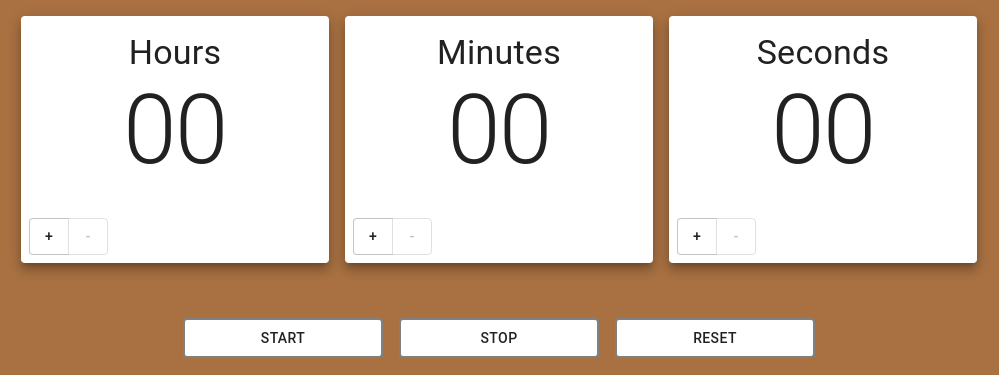
Timer component renders › checking reset button
This screenshot has width=999, height=375.
Click the button "+" below "Minutes" at x=373, y=237, box [353,218,393,255]
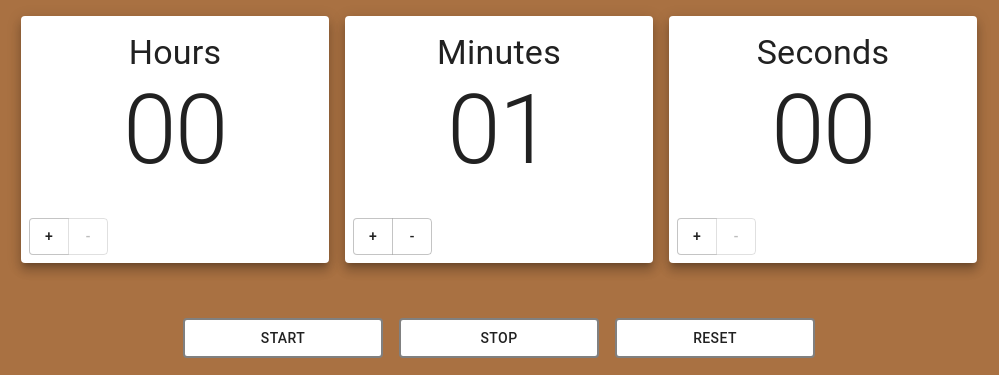
Click the button "+" below "01" at x=373, y=237, box [353,218,393,255]
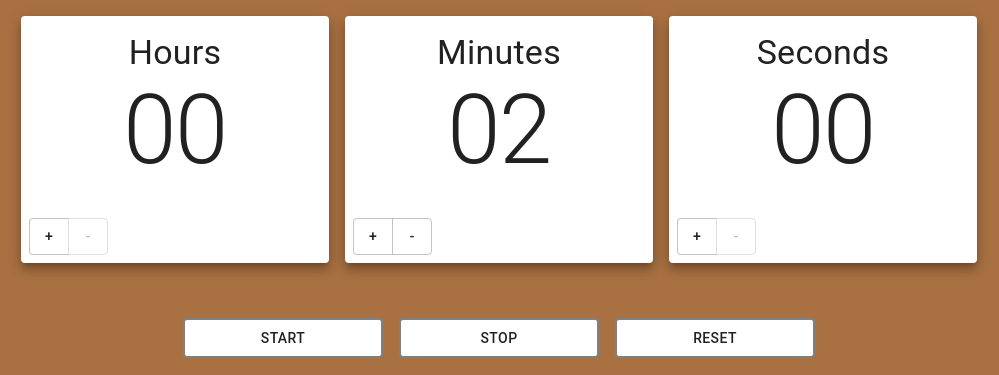
Click the button with id "resetBtn" at x=715, y=338, box [615,318,815,358]
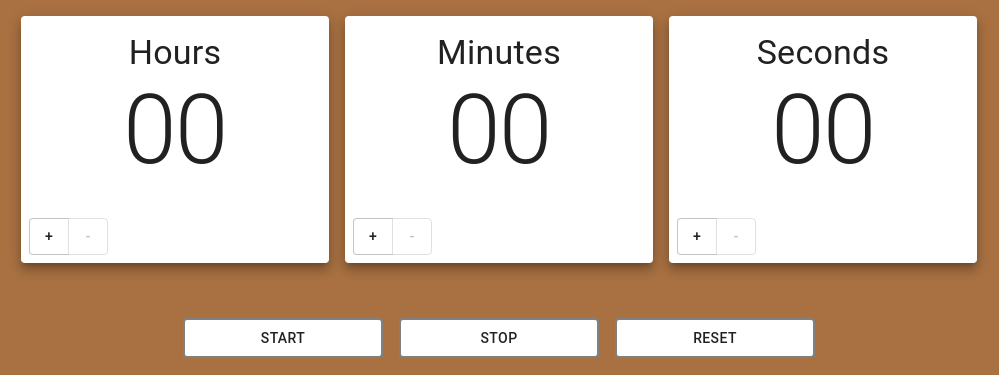
expect the heading with id "minutes" reads "00": met, box [447,74,551,186]
